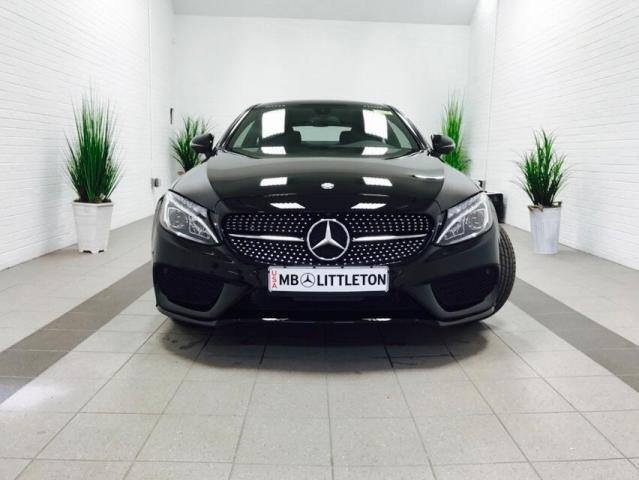C300Coupe: (147, 86, 519, 351)
